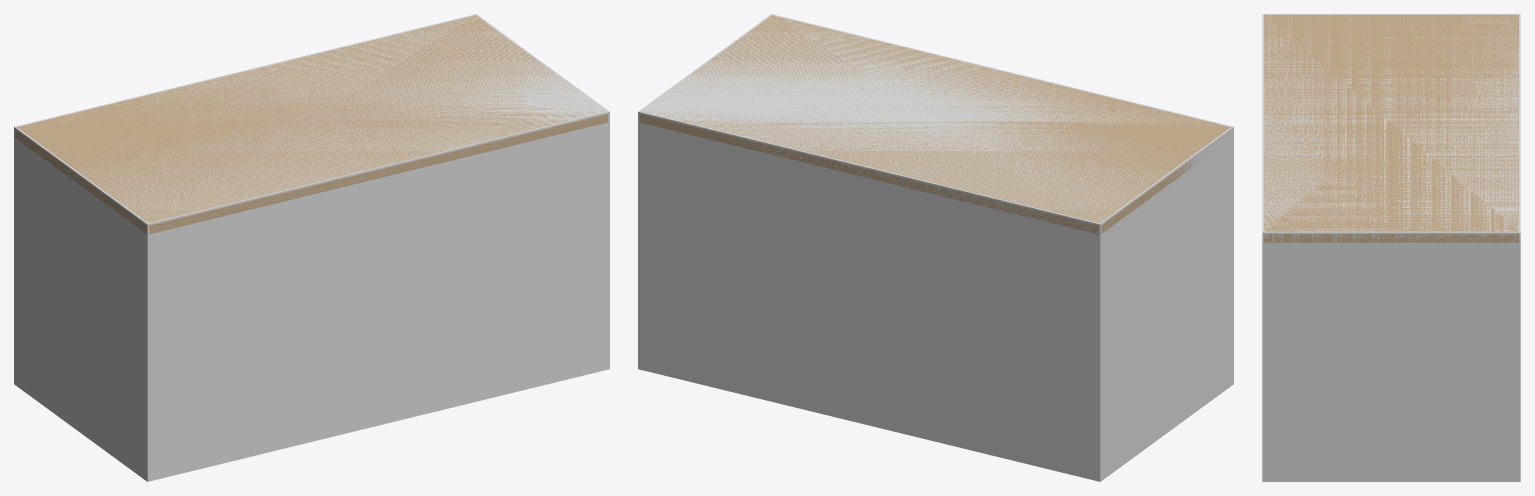
Rendered from writing_desk.glb.
The picture shows the model from 3 angles, left to right: view 1: azimuth 30°, elevation 25°; view 2: azimuth 150°, elevation 25°; view 3: azimuth 270°, elevation 25°; orthographic projection. The views are drawn at different scales.
Visible parts, largest first — view 1: Desk_COL, desk-writing_8; view 2: Desk_COL, desk-writing_8; view 3: Desk_COL, desk-writing_8.
Part boxes in pixels (x1=…): Desk_COL: x1=14, y1=14, x2=609, y2=481; desk-writing_8: x1=15, y1=15, x2=608, y2=234; Desk_COL: x1=638, y1=14, x2=1233, y2=481; desk-writing_8: x1=639, y1=15, x2=1230, y2=234; Desk_COL: x1=1262, y1=14, x2=1520, y2=481; desk-writing_8: x1=1264, y1=14, x2=1518, y2=242.
Size of the model in its own units: 1.4 by 0.7451 by 0.7001.
